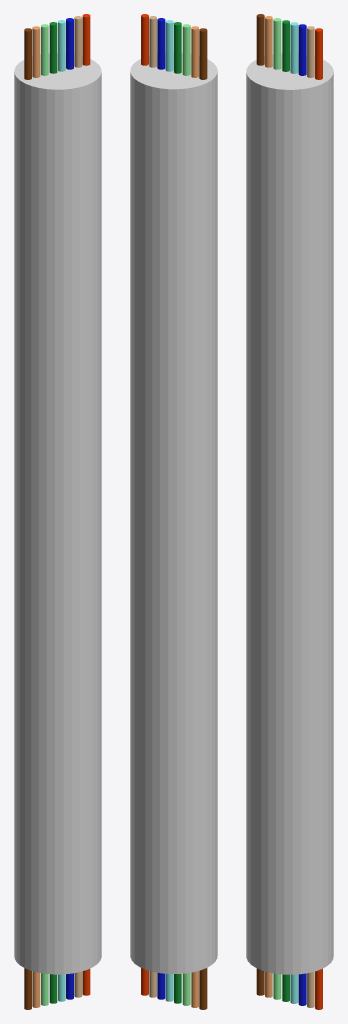
File: untwisted wires(1)-with selection.fbx
3 renders of one model, left to right at view 1: azimuth 30°, elevation 25°; view 2: azimuth 150°, elevation 25°; view 3: azimuth 330°, elevation 25°, orthographic.
Visible parts, largest first — view 1: Cylinder, light brown, brown, green, light orange, light green, light blue, blue, orange.002; view 2: Cylinder, brown, light green, light blue, light brown, blue, green, light orange, orange.002; view 3: Cylinder, blue, light blue, light green, light orange, brown, green, light brown, orange.002, orange.
Part boxes in pixels (x1,y1,x2,y2): Cylinder: [14, 53, 101, 974]; light brown: [32, 26, 40, 1007]; brown: [24, 28, 31, 1009]; green: [49, 22, 57, 1003]; light orange: [74, 16, 82, 997]; light green: [41, 24, 48, 1005]; light blue: [58, 20, 65, 1001]; blue: [66, 18, 73, 999]; orange.002: [82, 16, 90, 65]; Cylinder: [130, 52, 217, 973]; brown: [199, 28, 207, 1009]; light green: [182, 24, 190, 1005]; light blue: [165, 20, 173, 1001]; light brown: [191, 26, 198, 1007]; blue: [157, 18, 165, 999]; green: [174, 22, 181, 1003]; light orange: [149, 16, 156, 997]; orange.002: [141, 16, 148, 65]; Cylinder: [246, 53, 333, 974]; blue: [298, 24, 306, 1005]; light blue: [290, 22, 298, 1003]; light green: [273, 18, 281, 999]; light orange: [307, 26, 314, 1007]; brown: [256, 14, 264, 995]; green: [282, 20, 289, 1001]; light brown: [265, 16, 272, 997]; orange.002: [315, 30, 322, 79]; orange: [315, 968, 322, 1009].
Bounding box in the file's own units: 206 × 2540 × 205.
